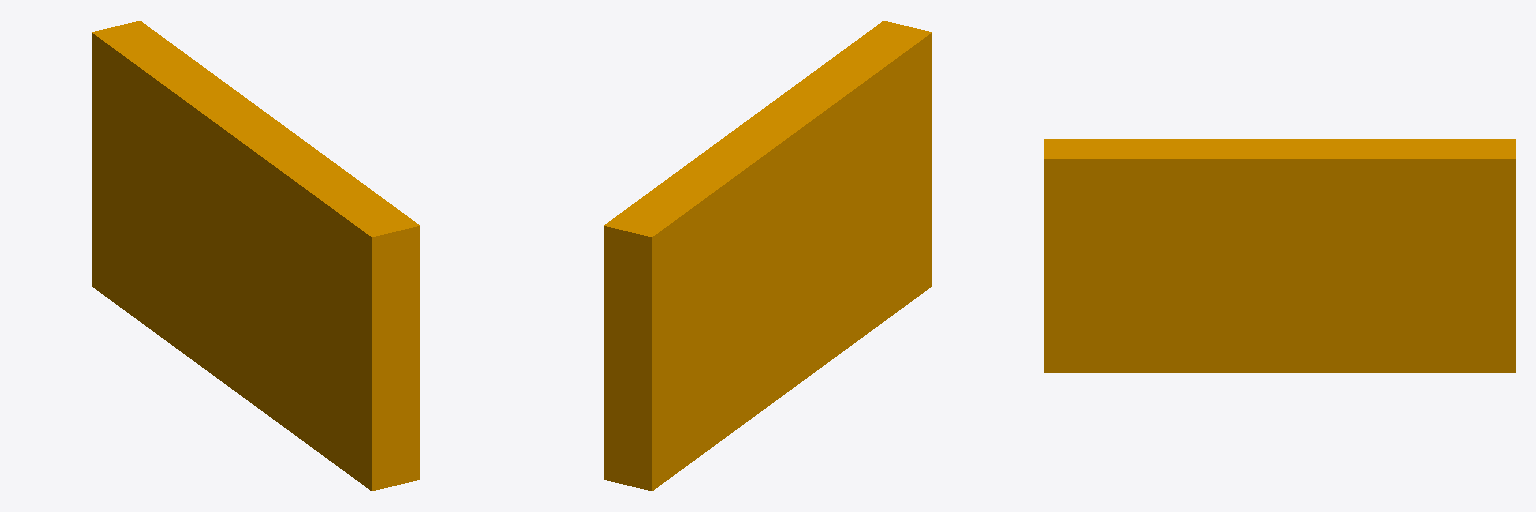
robot.urdf — wall:
<?xml version="1.0"?>
<robot name="wall">
  <material name="wallmat">
    <color rgba="1.00, 0.816, 0.843 1"/>
  </material>

  <link name="wall_link">
    <inertial>
      <origin rpy="0 0 0" xyz="0 0 0"/>
      <mass value="10"/>
      <inertia ixx="0" ixy="0" ixz="0" iyy="0" iyz="0" izz="0"/>
    </inertial>
    <visual>
      <origin rpy="0 0 0" xyz="-0.05 0.00 0.50"/>
      <geometry>
        <box size="0.10 1.00 0.5"/>
      </geometry>
      <material name="wallmat"/>
    </visual>
    <collision>
      <origin rpy="0 0 0" xyz="-0.05 0.00 0.50"/>
      <geometry>
        <box size="0.10 1.00 0.5"/>
      </geometry>
    </collision>
  </link>

</robot>

--- Render facts (derived) ---
Views: 3 orthographic renders of the robot side by side, from view 1: azimuth 30°, elevation 25°; view 2: azimuth 150°, elevation 25°; view 3: azimuth 270°, elevation 25°.
Model wall with 1 links and 0 joints (none), rooted at wall_link, posed all joints at 0.
Visible links, largest first — view 1: wall_link; view 2: wall_link; view 3: wall_link.
Boxes of the visible links, left/top/right/bottom form: wall_link: left=92, top=21, right=419, bottom=490; wall_link: left=604, top=21, right=931, bottom=490; wall_link: left=1044, top=139, right=1515, bottom=372.
Size in the robot's own frame: 0.1 by 1 by 0.5 metres.
Geometry: primitives only (box / cylinder / sphere), no mesh files.